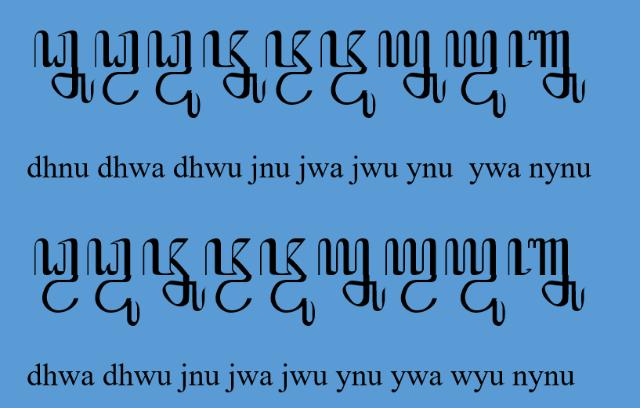dhnu: (34, 29, 94, 103)
dhw: (33, 238, 79, 314), (93, 30, 139, 105)
dhwu: (147, 29, 200, 118), (88, 238, 140, 328)
jnu: (202, 28, 266, 104), (142, 237, 205, 313)
jw: (205, 238, 253, 314), (266, 28, 312, 105)
jwu: (260, 237, 316, 327), (320, 29, 376, 118)
nynu: (507, 238, 585, 314), (508, 29, 586, 104)
ynu: (378, 30, 447, 104), (318, 239, 386, 313)
yw: (384, 238, 438, 314)
ywu: (444, 238, 506, 328), (445, 29, 507, 118)
